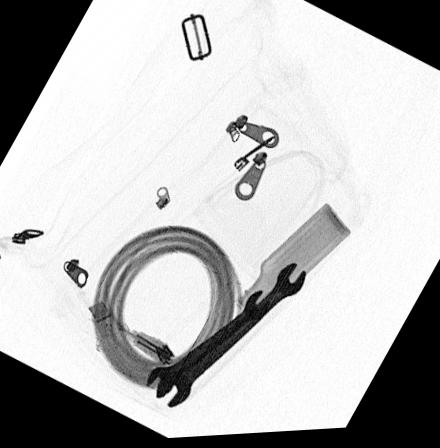Wrench: (143, 264, 306, 408)
